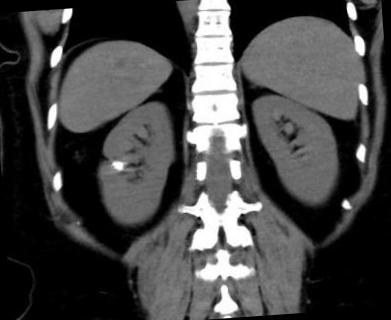Tas_Var: (110, 158, 124, 174)
